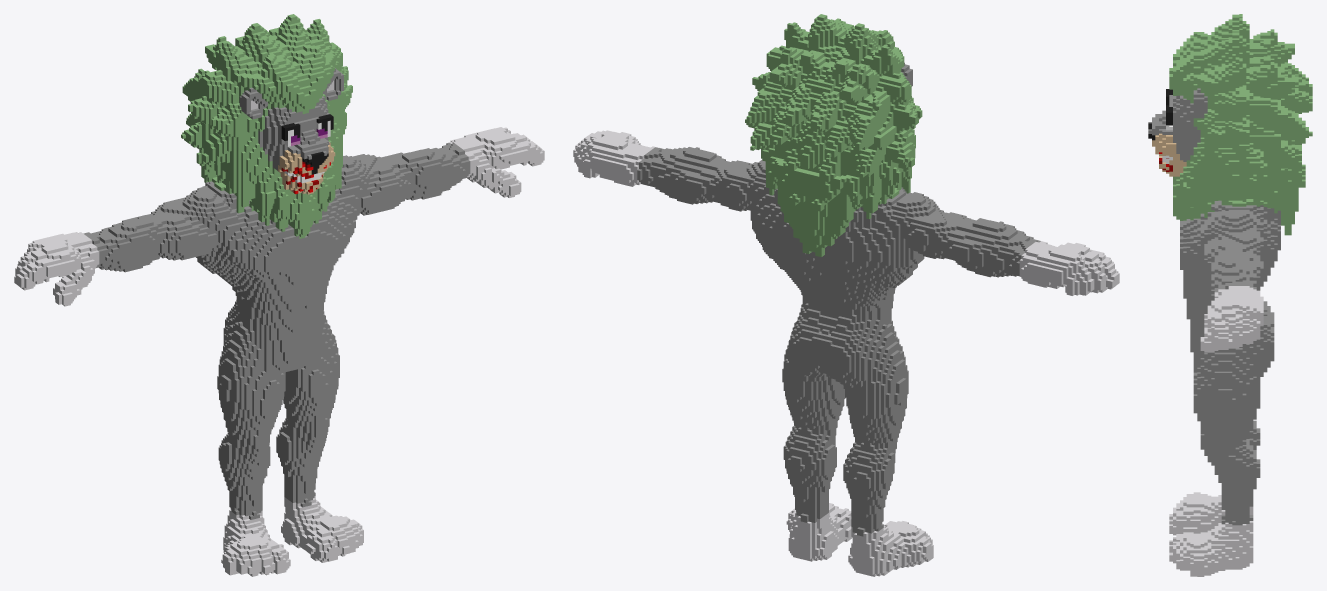
The model's file is 863-DOND66Op.glb.
The picture shows the model from 3 angles, left to right: view 1: azimuth 30°, elevation 25°; view 2: azimuth 150°, elevation 25°; view 3: azimuth 270°, elevation 25°; orthographic projection. The views are drawn at different scales.
Visible parts, largest first — view 1: blood; view 2: blood; view 3: blood.
Part boxes in pixels (bbox=[...]): blood: bbox=[14, 14, 544, 576]; blood: bbox=[573, 14, 1119, 576]; blood: bbox=[1148, 14, 1312, 576].
Size of the model in its own units: 17.2 by 16.5 by 4.7.
Materials: 4 (4 with a texture image).
